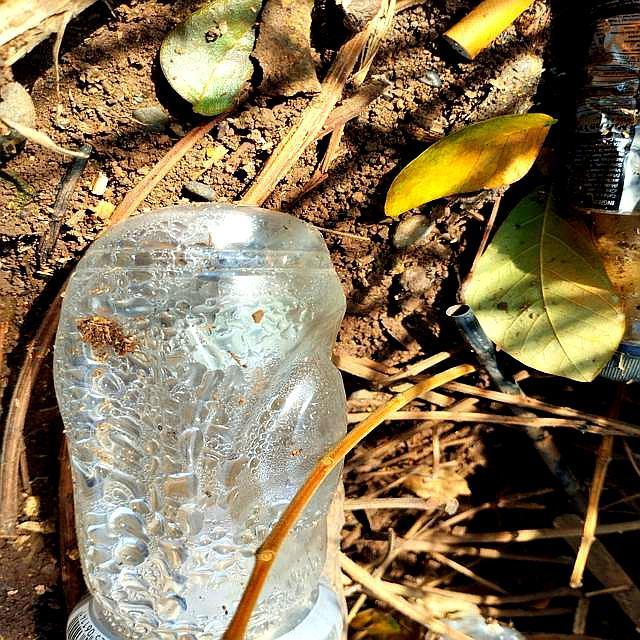Non-biodegradable: (55, 207, 349, 640)
